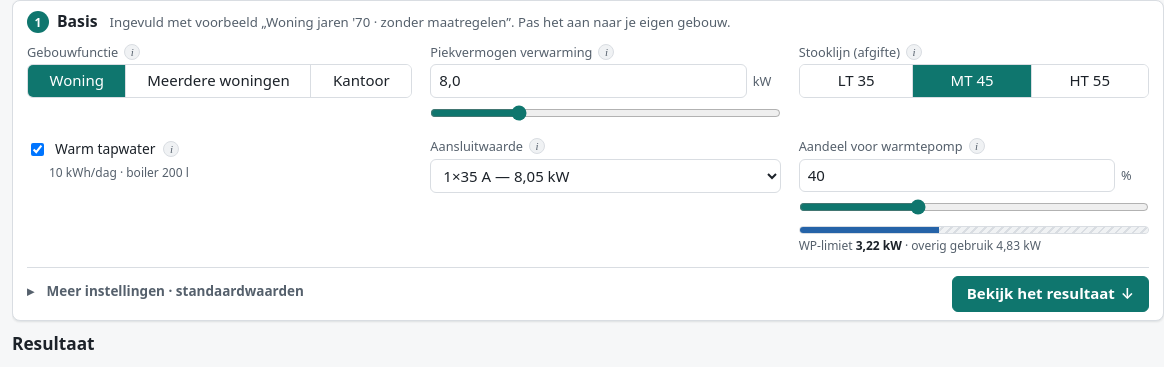
it: Basis: limietbalk, voorbeeldregel en ankers › regel boven de velden: het voorbeeld, of "Eigen invoer." na een wijziging
Expected: the text "Ingevuld met voorbeeld „Woning jaren '70 · zonder maatregelen”. Pas het aan naar je eigen gebouw." is shown, top-left (110, 13), bottom-right (730, 31)
Replace the text in the field labelled "Piekvermogen verwarming" with "9": (588, 81) top-left (430, 64), bottom-right (747, 98)
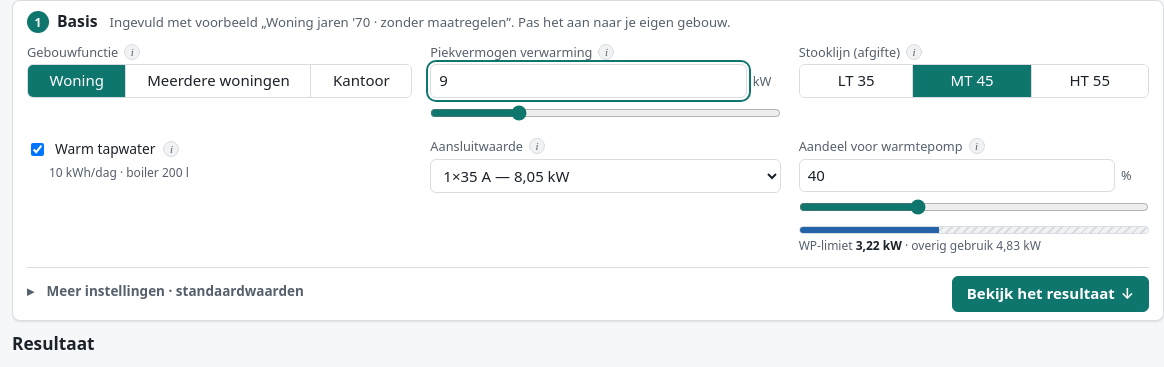
Leave the field labelled "Piekvermogen verwarming", box top-left (430, 64), bottom-right (747, 98)
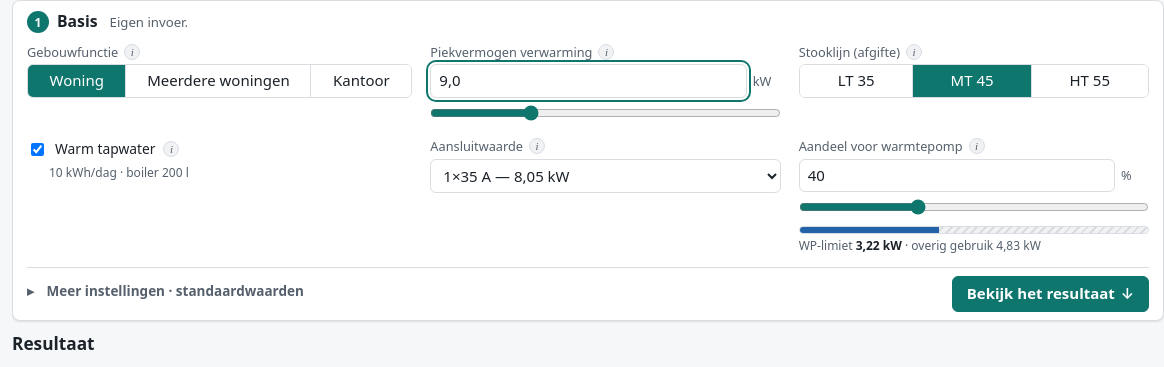
Now the text "Eigen invoer." is shown, box top-left (110, 13), bottom-right (188, 31)
